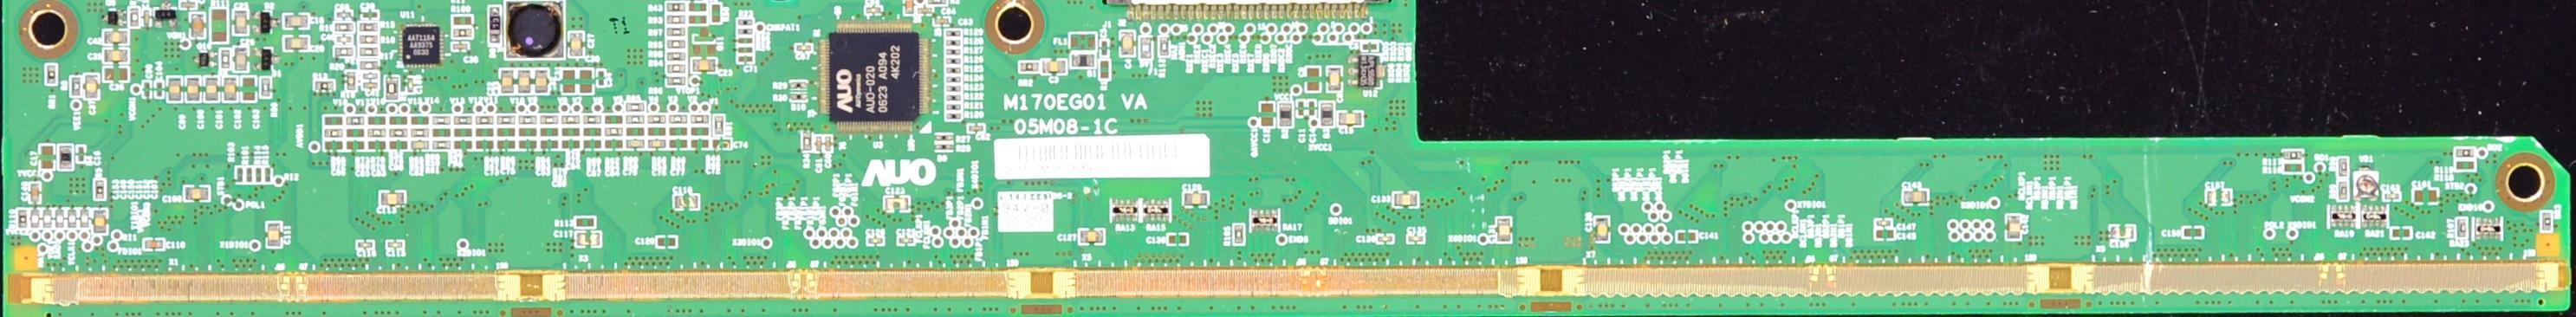Capacitor: (267, 221, 284, 249), (203, 76, 220, 103), (166, 76, 184, 104), (184, 184, 211, 202), (574, 230, 602, 248), (221, 77, 238, 103), (380, 190, 406, 207), (191, 13, 208, 40), (1258, 102, 1275, 129), (2412, 187, 2439, 204), (1903, 189, 1930, 205), (673, 195, 701, 211), (283, 13, 310, 30), (2110, 225, 2137, 241), (282, 36, 310, 52), (1041, 59, 1068, 75), (240, 76, 256, 102), (2206, 190, 2233, 205), (1392, 192, 1419, 209), (232, 10, 249, 36), (93, 208, 108, 235), (1595, 217, 1612, 243), (104, 30, 130, 46), (1119, 31, 1135, 57), (185, 76, 200, 104), (1496, 217, 1512, 244), (102, 48, 130, 63), (234, 45, 249, 72), (40, 144, 55, 169), (1079, 229, 1105, 244), (568, 32, 585, 57), (1327, 67, 1342, 93), (1305, 67, 1320, 93), (516, 68, 532, 94), (561, 69, 578, 94), (1338, 111, 1364, 126), (1183, 191, 1210, 207), (102, 67, 128, 81), (84, 75, 101, 99), (2007, 215, 2021, 239), (534, 68, 548, 94), (500, 69, 515, 94), (580, 68, 594, 94), (1167, 234, 1189, 246), (142, 238, 164, 251), (540, 139, 561, 151), (388, 139, 408, 152), (2391, 227, 2411, 239), (647, 139, 668, 150), (517, 139, 538, 150), (322, 140, 344, 152), (29, 182, 41, 204), (79, 207, 91, 228), (2183, 227, 2204, 238), (1876, 229, 1897, 240), (1677, 231, 1698, 243), (690, 138, 710, 149), (584, 139, 602, 149), (604, 139, 624, 150), (410, 139, 428, 150), (496, 139, 516, 151), (475, 139, 495, 151), (66, 208, 77, 228), (42, 208, 52, 228), (1408, 233, 1428, 244), (451, 42, 471, 52), (625, 138, 646, 148), (129, 6, 140, 28), (655, 237, 678, 246), (670, 139, 689, 149), (712, 139, 731, 149), (347, 140, 364, 151), (367, 139, 386, 152), (795, 43, 814, 54), (864, 5, 884, 15), (361, 10, 380, 19), (561, 139, 581, 148), (54, 207, 64, 227), (29, 208, 39, 228), (355, 240, 374, 250), (1378, 234, 1395, 245), (334, 10, 353, 19), (1875, 219, 1892, 229), (336, 34, 354, 44), (738, 55, 756, 64), (360, 82, 380, 90), (143, 81, 151, 100), (914, 7, 933, 16), (968, 124, 984, 133), (76, 146, 86, 163), (2383, 193, 2402, 202), (385, 240, 405, 249), (154, 81, 163, 99), (824, 134, 833, 152), (814, 135, 822, 153), (934, 16, 950, 27), (1307, 100, 1316, 117), (1297, 100, 1305, 118), (178, 1, 198, 8)
IC: (818, 22, 933, 133), (398, 23, 444, 68)
Resistor: (210, 8, 228, 44), (385, 76, 401, 101), (59, 145, 74, 171), (691, 58, 717, 73), (2455, 217, 2469, 240), (2337, 179, 2349, 203), (324, 115, 345, 127), (574, 216, 596, 229), (1232, 223, 1245, 245), (1158, 36, 1171, 58), (712, 113, 725, 137), (431, 139, 453, 150), (2455, 146, 2477, 158), (358, 21, 381, 32), (359, 47, 380, 58), (345, 69, 357, 92), (314, 79, 336, 91), (431, 114, 451, 127), (603, 126, 624, 138), (665, 26, 686, 38), (451, 28, 473, 40), (665, 40, 686, 50), (1019, 61, 1041, 72), (583, 113, 603, 125), (562, 113, 581, 126), (496, 115, 516, 126), (389, 115, 409, 126), (667, 126, 687, 137), (583, 126, 602, 138), (801, 132, 813, 151), (2282, 150, 2302, 160), (2541, 210, 2553, 230), (359, 60, 380, 69), (260, 77, 269, 99), (646, 114, 667, 125), (539, 114, 560, 125), (518, 114, 538, 126), (646, 126, 667, 137), (388, 126, 409, 137), (410, 126, 430, 137), (689, 126, 710, 137), (346, 128, 367, 139), (324, 128, 345, 139), (2339, 158, 2347, 179), (665, 16, 687, 25), (220, 49, 230, 70), (665, 1, 686, 12), (666, 78, 688, 87), (626, 113, 645, 125), (605, 113, 623, 126), (367, 115, 386, 126), (334, 47, 354, 57), (690, 113, 711, 124), (669, 114, 689, 125), (411, 114, 430, 125), (454, 114, 474, 126), (475, 115, 495, 126), (347, 116, 366, 126), (561, 127, 581, 139), (518, 127, 537, 138), (496, 127, 516, 138), (368, 128, 387, 139), (431, 128, 452, 139), (2456, 161, 2475, 171), (335, 23, 354, 33), (360, 71, 380, 81), (263, 167, 274, 184), (790, 93, 808, 101), (945, 92, 963, 102), (626, 126, 645, 136), (475, 127, 493, 138), (736, 27, 755, 36), (666, 51, 685, 61), (666, 64, 685, 74), (2282, 164, 2304, 172), (539, 127, 559, 137), (454, 127, 474, 137), (18, 208, 27, 228), (358, 36, 379, 44), (944, 76, 962, 85), (945, 101, 963, 110), (626, 101, 645, 111), (935, 133, 953, 141), (935, 144, 952, 152), (253, 165, 262, 184), (944, 57, 963, 65), (945, 66, 963, 74), (789, 81, 807, 89), (406, 76, 413, 94), (236, 166, 243, 183), (944, 85, 963, 92), (945, 29, 960, 36), (244, 166, 252, 184), (736, 19, 754, 26), (945, 49, 963, 55), (945, 113, 962, 120), (944, 39, 962, 47)
Transistor: (254, 48, 284, 72), (254, 10, 280, 35), (154, 1, 178, 29), (192, 49, 217, 69)
